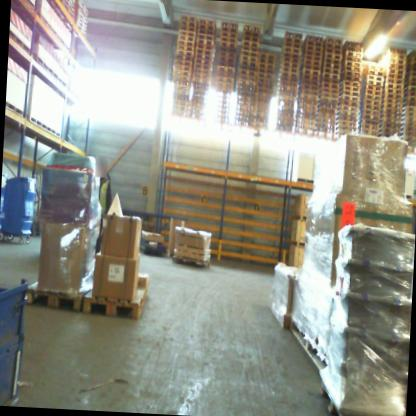pallet: (316, 373, 406, 416), (345, 40, 380, 137), (82, 270, 149, 320), (23, 276, 94, 312), (179, 14, 203, 118), (170, 253, 211, 269), (323, 34, 343, 44), (172, 68, 191, 78), (173, 63, 192, 73), (175, 48, 194, 58), (316, 129, 335, 139), (343, 68, 362, 78), (361, 107, 380, 117), (362, 97, 381, 107), (364, 82, 383, 92), (320, 66, 341, 75), (301, 67, 321, 76), (320, 71, 340, 80), (321, 61, 341, 70), (322, 51, 342, 60), (360, 122, 380, 131), (364, 78, 384, 87), (379, 121, 401, 129), (380, 111, 402, 119), (380, 106, 402, 114), (381, 101, 403, 109), (381, 96, 403, 104), (381, 91, 403, 99), (382, 86, 404, 94), (172, 78, 191, 87), (173, 59, 192, 68), (174, 54, 193, 63), (176, 43, 195, 52), (177, 34, 196, 43), (191, 82, 210, 91), (191, 77, 210, 86), (192, 67, 211, 76), (194, 52, 213, 61), (194, 47, 213, 56), (195, 42, 214, 51), (240, 49, 259, 58), (242, 23, 261, 32), (296, 126, 315, 135), (297, 111, 316, 120), (316, 125, 335, 134), (317, 115, 336, 124), (361, 112, 380, 121), (363, 93, 382, 102), (318, 96, 339, 104), (318, 91, 339, 99), (319, 81, 340, 89), (379, 126, 400, 134), (380, 116, 401, 124), (383, 81, 404, 89), (171, 99, 189, 108), (171, 93, 189, 102), (172, 84, 190, 93), (219, 40, 237, 49), (220, 30, 238, 39), (238, 68, 256, 77), (241, 44, 259, 53), (340, 98, 358, 107), (342, 78, 360, 87), (195, 33, 215, 41), (303, 44, 323, 52), (318, 101, 338, 109), (319, 86, 339, 94), (320, 76, 340, 84), (386, 67, 406, 75), (379, 131, 401, 138), (383, 72, 405, 79), (237, 83, 254, 92), (238, 78, 255, 87), (344, 64, 361, 73), (171, 89, 190, 97), (172, 74, 191, 82), (176, 39, 195, 47), (192, 72, 211, 80), (193, 63, 212, 71), (193, 57, 212, 65), (196, 28, 215, 36), (218, 50, 237, 58), (239, 55, 258, 63), (255, 77, 274, 85), (281, 56, 300, 64), (281, 51, 300, 59), (297, 117, 316, 125), (298, 107, 317, 115), (299, 97, 318, 105), (300, 88, 319, 96), (300, 83, 319, 91), (301, 73, 320, 81), (316, 120, 335, 128), (317, 111, 336, 119), (318, 106, 337, 114), (344, 50, 363, 58), (361, 117, 380, 125), (362, 103, 381, 111), (363, 88, 382, 96), (384, 77, 405, 84), (171, 109, 189, 117), (171, 104, 189, 112), (178, 30, 196, 38), (178, 25, 196, 33), (179, 20, 197, 28), (196, 38, 214, 46), (217, 65, 235, 73), (218, 56, 236, 64), (219, 45, 237, 53), (219, 36, 237, 44), (220, 25, 238, 33), (236, 99, 254, 107), (238, 73, 256, 81), (239, 64, 257, 72), (239, 59, 257, 67), (241, 39, 259, 47), (242, 35, 260, 43), (256, 72, 274, 80), (280, 75, 298, 83), (280, 70, 298, 78), (281, 61, 299, 69), (283, 46, 301, 54), (284, 36, 302, 44), (285, 31, 303, 39), (338, 119, 356, 127), (339, 114, 357, 122), (340, 104, 358, 112), (342, 89, 360, 97), (342, 84, 360, 92), (343, 74, 361, 82), (400, 134, 416, 143), (300, 79, 320, 86), (301, 63, 321, 70), (302, 54, 322, 61), (303, 40, 323, 47), (304, 34, 324, 41), (322, 47, 342, 54), (190, 96, 207, 104), (192, 87, 209, 95), (237, 94, 254, 102), (252, 115, 269, 123), (339, 124, 356, 132), (340, 108, 357, 116), (342, 94, 359, 102), (344, 60, 361, 68), (367, 63, 384, 71), (389, 47, 406, 55), (197, 23, 216, 30), (197, 18, 216, 25), (215, 80, 234, 87), (215, 76, 234, 83), (216, 71, 235, 78), (220, 21, 239, 28), (298, 102, 317, 109), (299, 93, 318, 100), (302, 58, 321, 65), (303, 49, 322, 56), (322, 57, 341, 64), (323, 42, 342, 49), (254, 96, 270, 104), (367, 68, 383, 76), (188, 102, 206, 109), (215, 86, 233, 93), (217, 61, 235, 68), (242, 30, 260, 37), (254, 92, 272, 99), (255, 81, 273, 88), (257, 67, 275, 74), (257, 62, 275, 69), (258, 52, 276, 59), (278, 94, 296, 101), (279, 89, 297, 96), (279, 85, 297, 92), (279, 80, 297, 87), (281, 66, 299, 73), (344, 55, 362, 62), (365, 74, 383, 81), (388, 62, 406, 69), (192, 91, 207, 99), (237, 89, 254, 96), (252, 111, 269, 118), (284, 42, 301, 49), (188, 106, 204, 113), (253, 106, 269, 113), (400, 125, 416, 132), (402, 99, 416, 107), (255, 87, 273, 93), (258, 58, 276, 64), (297, 123, 315, 129), (345, 46, 363, 52), (254, 101, 269, 108), (401, 120, 416, 127), (401, 115, 416, 122), (401, 110, 416, 117), (403, 94, 416, 102), (403, 89, 416, 97), (389, 58, 406, 64), (389, 54, 406, 60), (402, 105, 416, 112), (400, 130, 416, 136), (404, 84, 416, 92), (405, 140, 416, 148), (404, 79, 416, 86), (405, 75, 416, 82), (405, 70, 416, 77), (406, 60, 416, 67), (406, 55, 416, 62), (407, 50, 416, 57), (406, 65, 416, 71)
